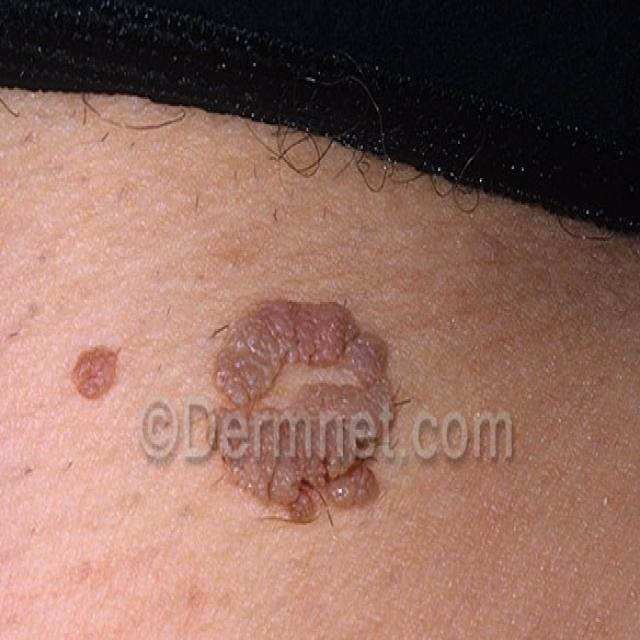Warts: (196, 241, 420, 569), (57, 326, 137, 422)
